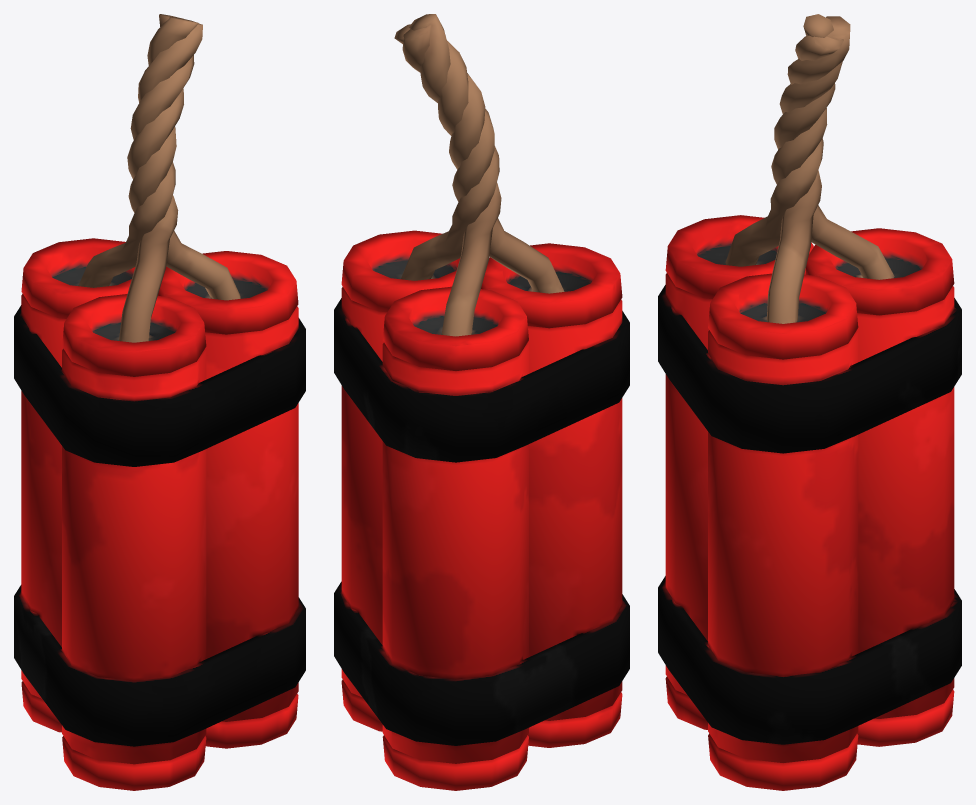
The model's file is LE_Dynamite.fbx.
The picture shows the model from 3 angles, left to right: view 1: azimuth 30°, elevation 25°; view 2: azimuth 150°, elevation 25°; view 3: azimuth 270°, elevation 25°; orthographic projection. The views are drawn at different scales.
Parts seen in each view (by area): view 1: LE_Dynamite; view 2: LE_Dynamite; view 3: LE_Dynamite.
Part boxes in pixels (x1,y1,x2,y2): LE_Dynamite: [14, 14, 305, 790]; LE_Dynamite: [334, 14, 629, 790]; LE_Dynamite: [658, 14, 961, 790].
Size of the model in its own units: 1.42 by 3.79 by 1.43.
Materials: 1 (1 with a texture image).
